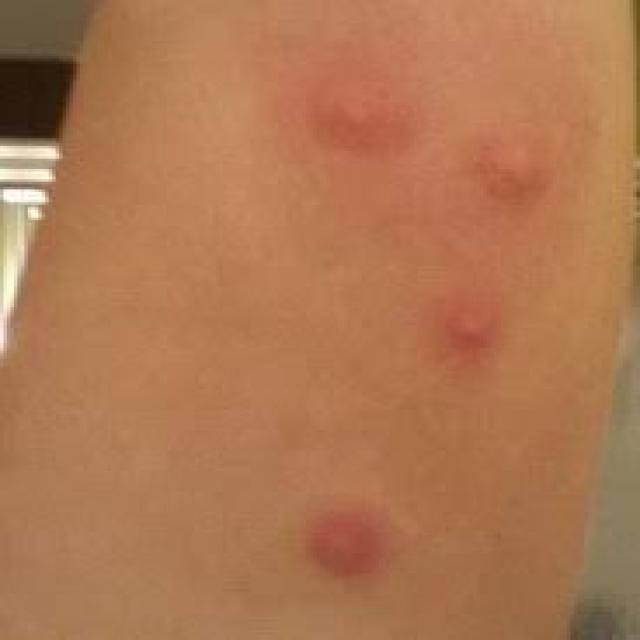kan emici bocekler: (368, 284, 545, 411), (269, 496, 496, 591), (278, 53, 437, 162), (454, 138, 593, 228)
